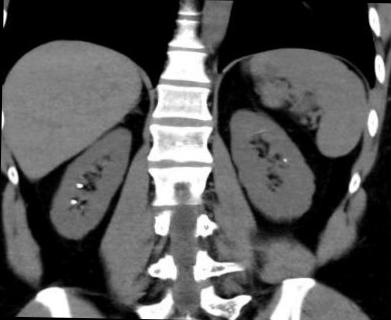Tas_Var: (74, 182, 83, 192), (68, 198, 76, 206), (281, 157, 288, 166)
